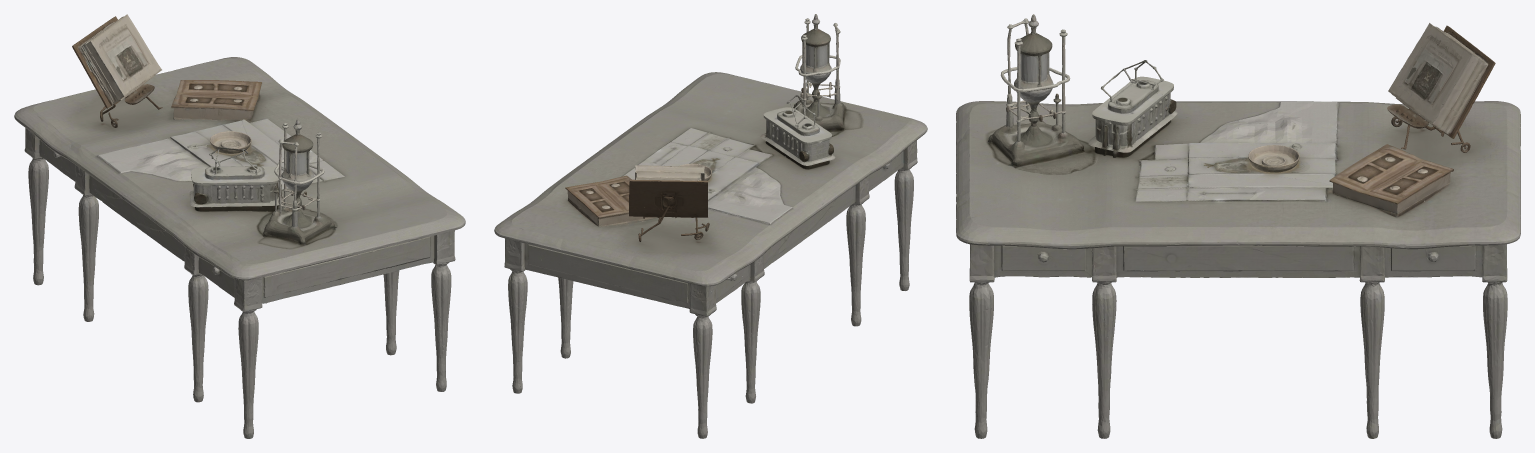
Rendered from Stephan_table.fbx.
The picture shows the model from 3 angles, left to right: view 1: azimuth 30°, elevation 25°; view 2: azimuth 150°, elevation 25°; view 3: azimuth 270°, elevation 25°; orthographic projection. The views are drawn at different scales.
Parts seen in each view (by area): view 1: Stephan_Table; view 2: Stephan_Table; view 3: Stephan_Table.
Part boxes in pixels (x1,y1,x2,y2): Stephan_Table: [14, 14, 465, 438]; Stephan_Table: [494, 14, 927, 438]; Stephan_Table: [956, 14, 1520, 438].
Bounding box in the file's own units: 58.87 × 68.38 × 100.
Materials: 1 (1 with a texture image).
